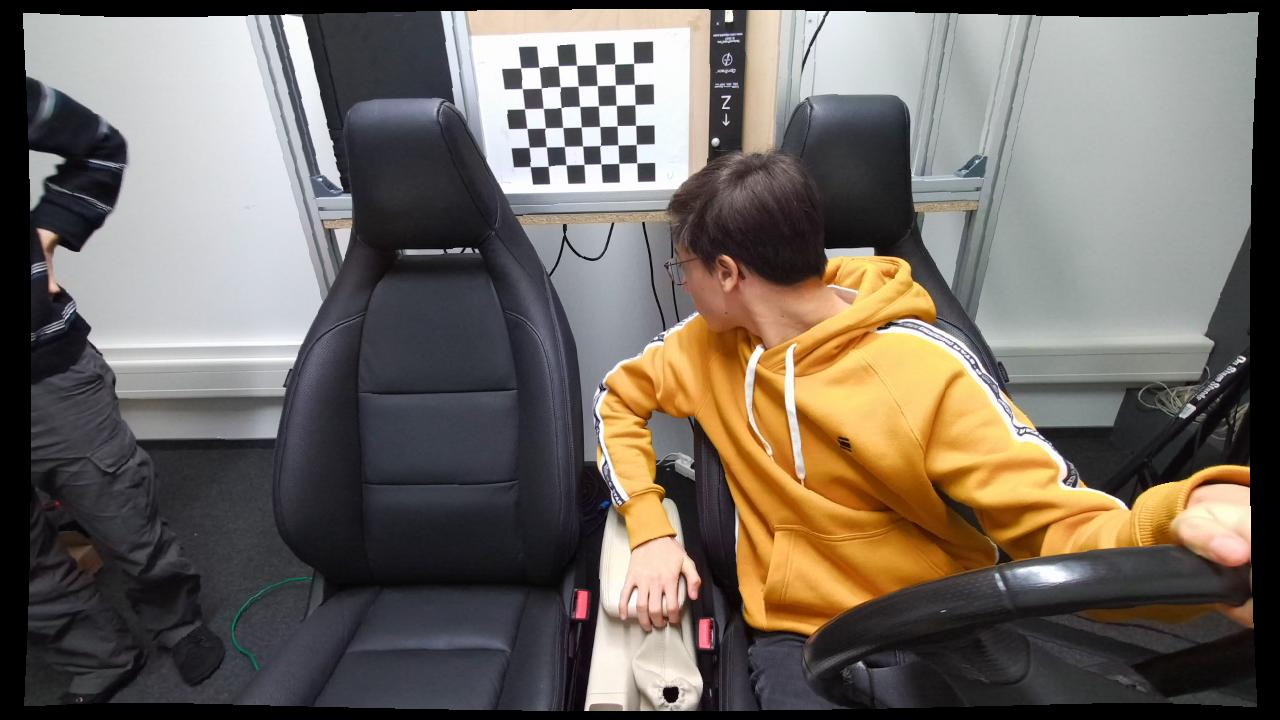Distracted: (589, 142, 1001, 715)
